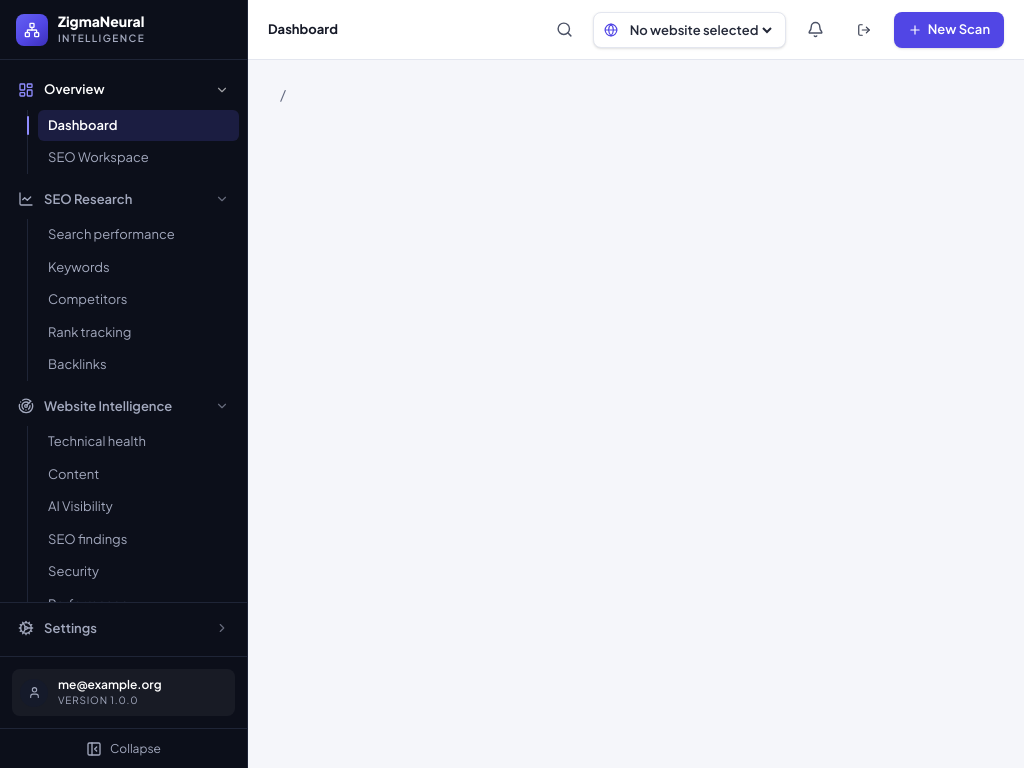
Test: Shell navigation › says when no page matches the search
This screenshot has width=1024, height=768.
Step 1. Click the button named "Go to page" → (564, 30), box [548,13,581,46]
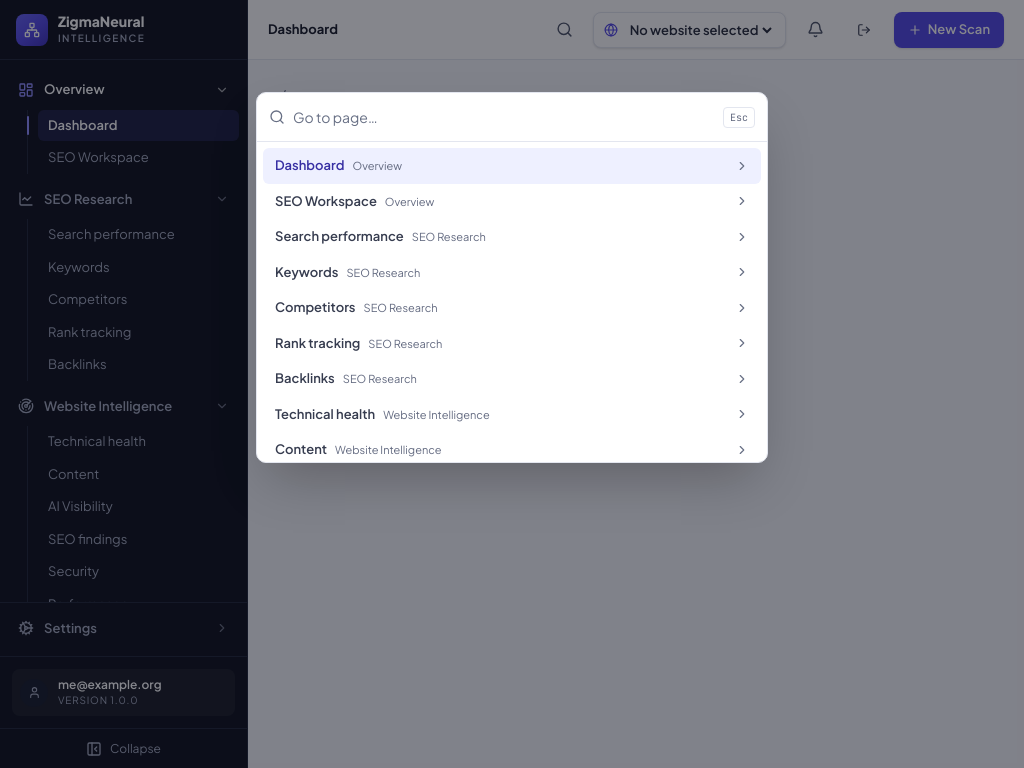
Step 2. Type "zzzz" into the field named "Search pages" → (504, 117), box [293,93,715,141]
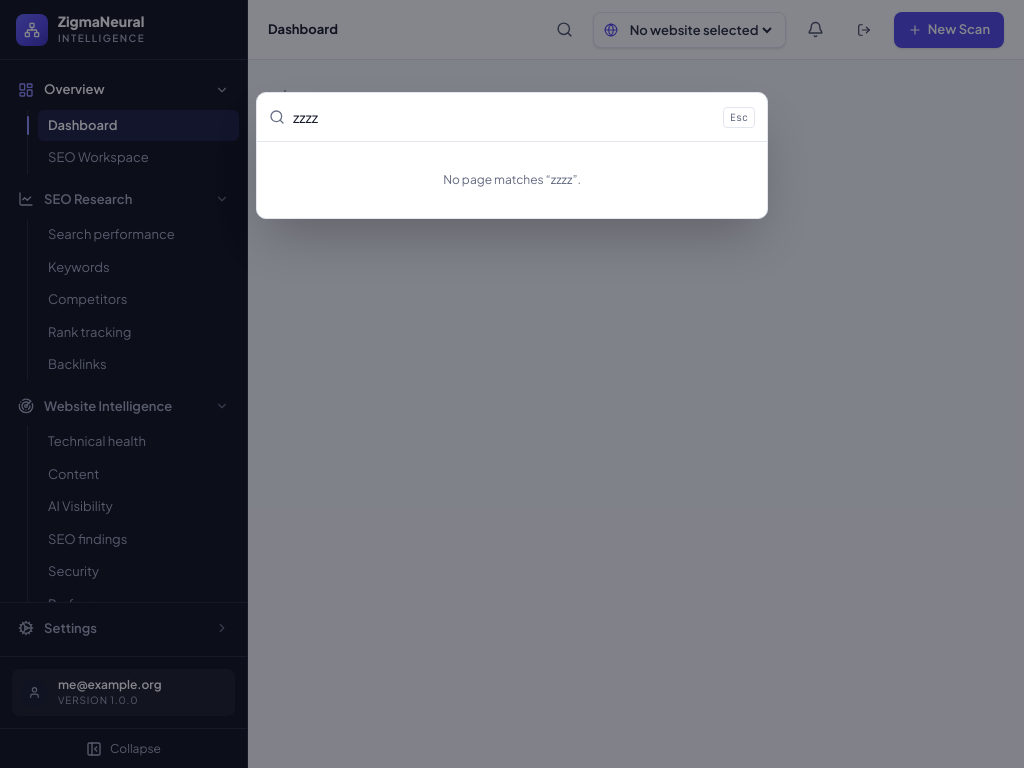
Expected: the list item "No page matches “zzzz”." is shown, [443,172,581,187]
